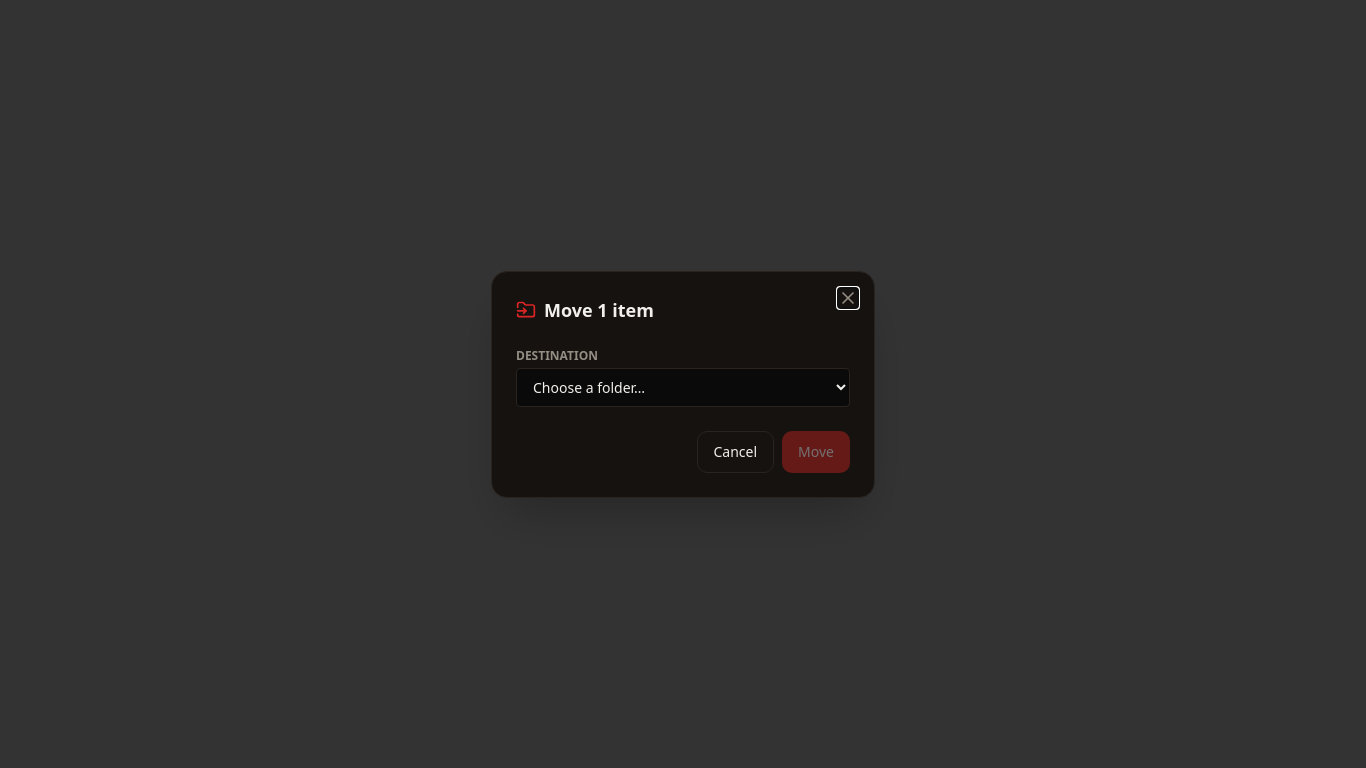
Test case: MoveFilesModal › cannot submit until a destination is chosen
Check: the button "Move" is disabled, box [782,430,850,472]
Select "Docs" in the dropdown labelled "Destination". click: {"x": 683, "y": 387}
box: [516,368,850,406]
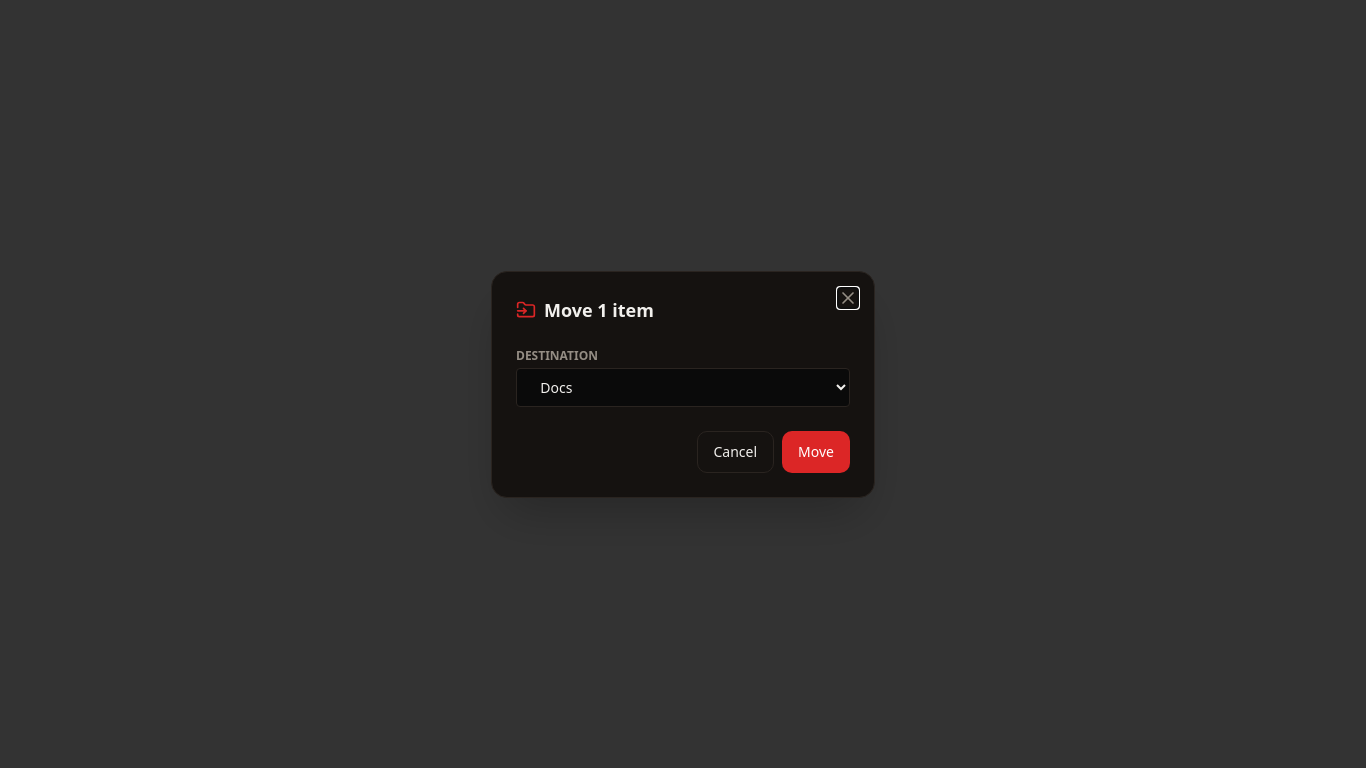
Check: the button "Move" is enabled, box [782,430,850,472]
